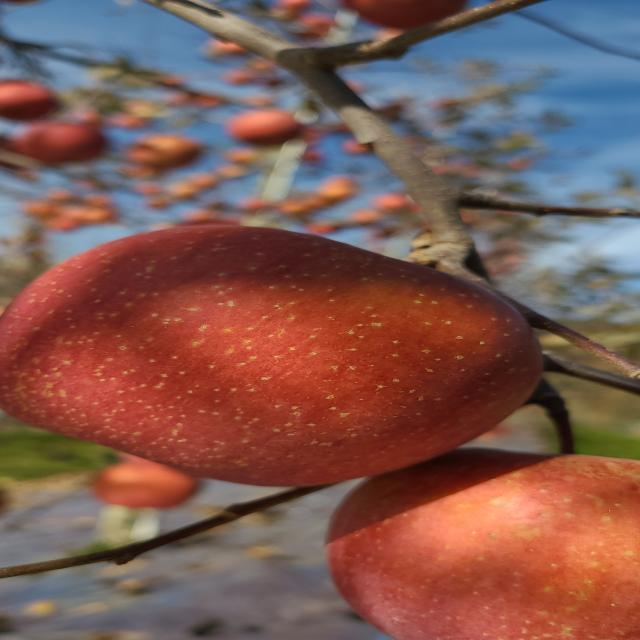fresh: (5, 216, 566, 499)
